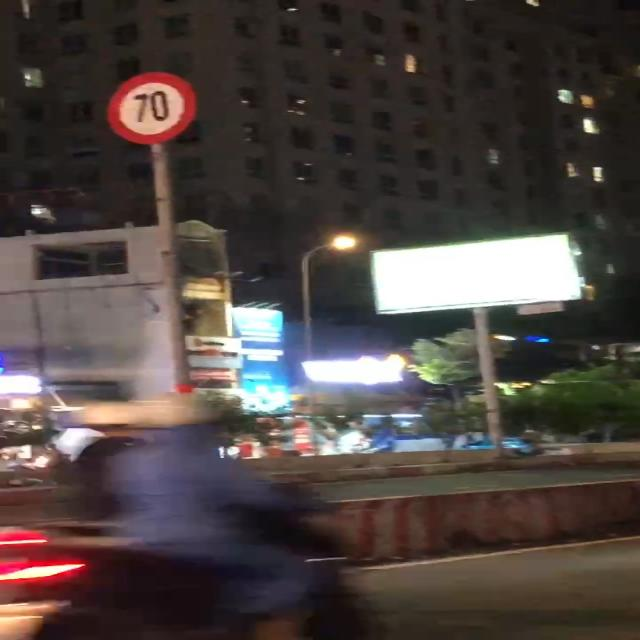Bien bao toc do toi da cho phep: (94, 64, 220, 144)
